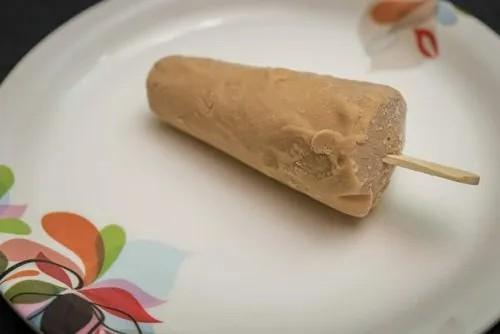Kulfi: (148, 56, 406, 219)
